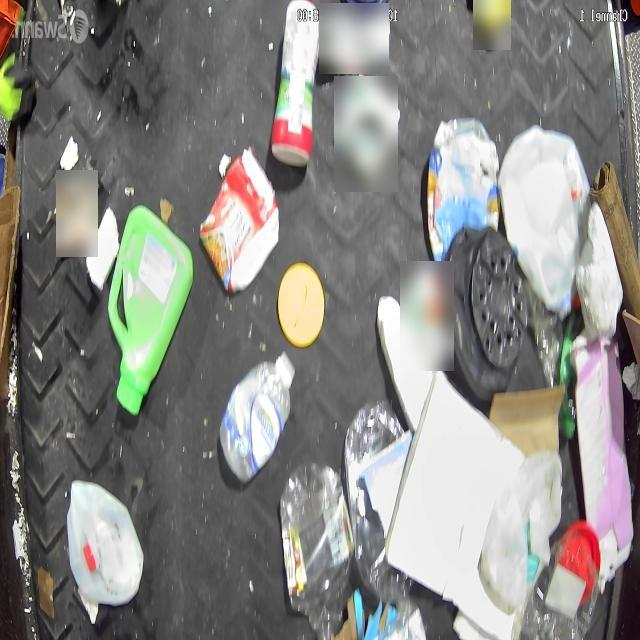milk_jug: (497, 125, 587, 317), (481, 448, 563, 606), (64, 478, 142, 610)
non_white_jug: (105, 208, 191, 420)
plastic_bottle: (281, 458, 353, 638)
